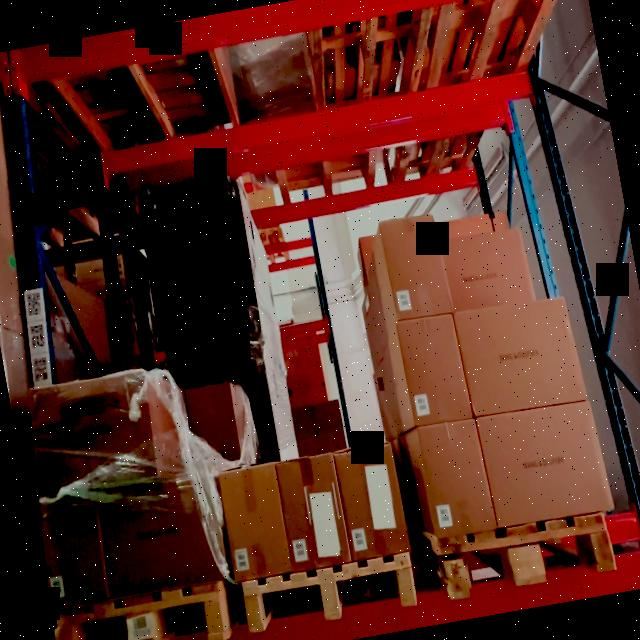box: (137, 177, 261, 355), (24, 362, 160, 496), (478, 402, 610, 526), (94, 470, 222, 590), (453, 308, 582, 420), (274, 450, 354, 574), (408, 417, 493, 533), (394, 312, 472, 430), (218, 460, 296, 578), (439, 230, 531, 319), (378, 213, 452, 321), (338, 449, 412, 556), (42, 504, 106, 600), (180, 388, 238, 467)
